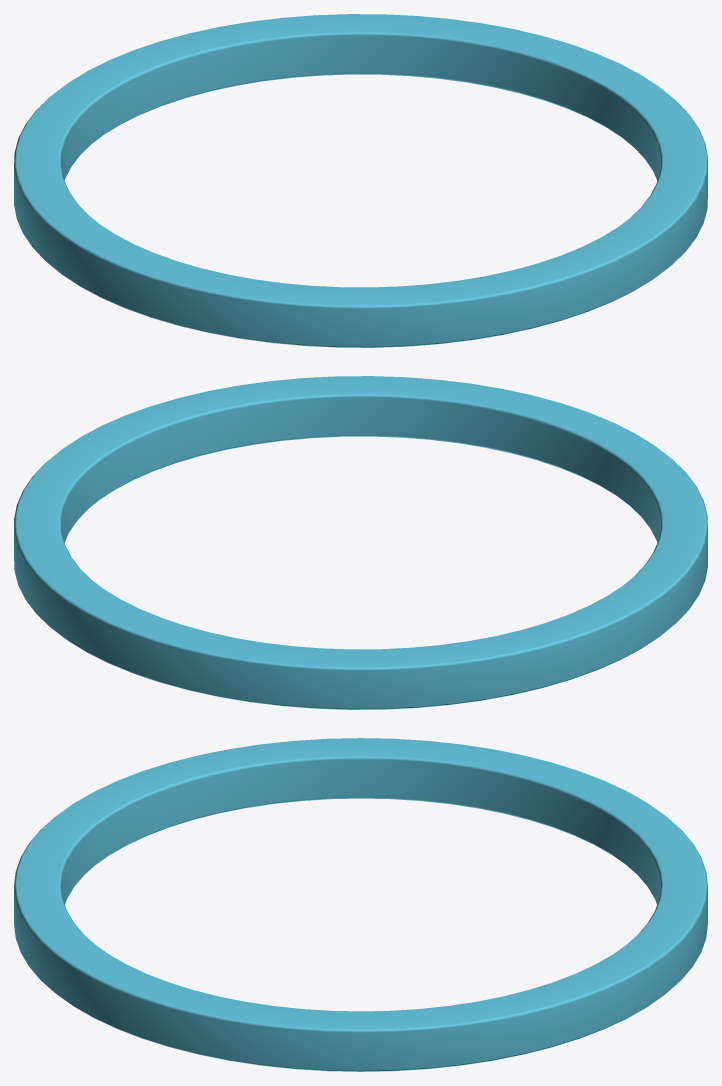
3 views of the same model, one above another, from view 1: azimuth 30°, elevation 25°; view 2: azimuth 150°, elevation 25°; view 3: azimuth 270°, elevation 25° (orthographic).
Parts seen in each view (by area): view 1: seal_body; view 2: seal_body; view 3: seal_body.
Part boxes in pixels (x1,y1,x2,y2): seal_body: [14, 14, 707, 347]; seal_body: [14, 376, 707, 709]; seal_body: [14, 738, 707, 1071].
Bounding box in the file's own units: 0.1396 × 0.00952 × 0.1396.
